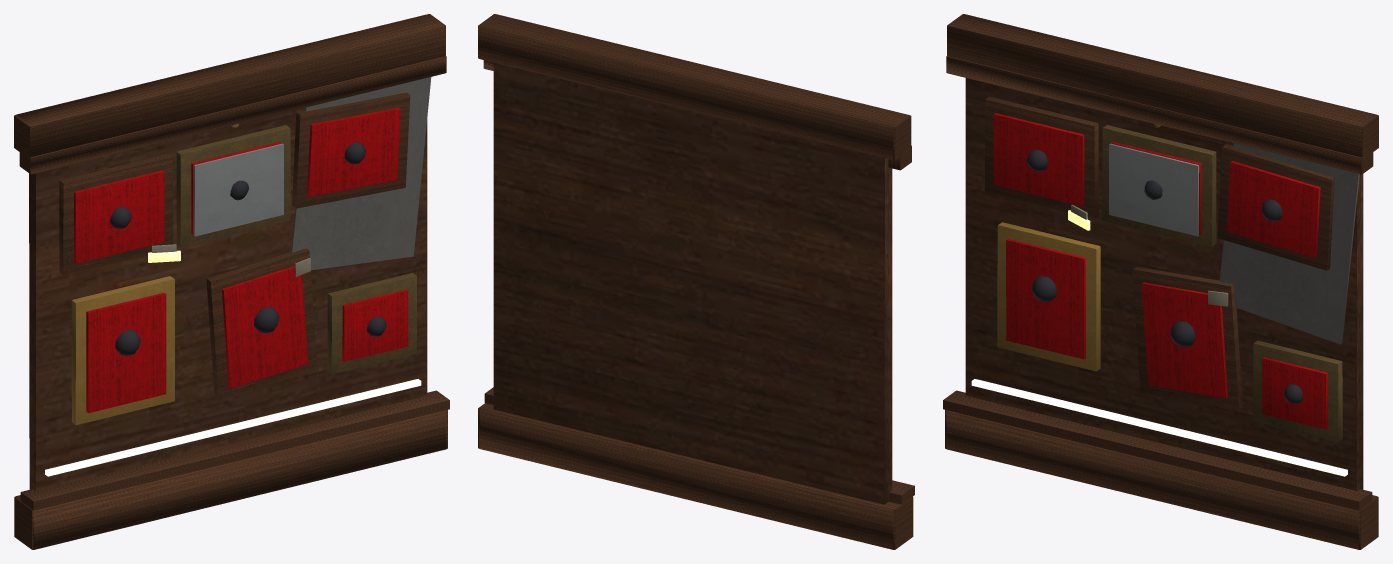
Rendered from hp_room_l09_p01.glb.
The picture shows the model from 3 angles, left to right: view 1: azimuth 30°, elevation 25°; view 2: azimuth 150°, elevation 25°; view 3: azimuth 330°, elevation 25°; orthographic projection.
Parts seen in each view (by area): view 1: room_l09_p01; view 2: room_l09_p01; view 3: room_l09_p01.
Boxes of the visible parts, x1,y1,x2,y2 form: room_l09_p01: (14,14,449,549); room_l09_p01: (478,14,914,549); room_l09_p01: (943,14,1378,549).
Size of the model in its own units: 2.34 by 2.27 by 0.2111.
12 materials, 9 textured.
